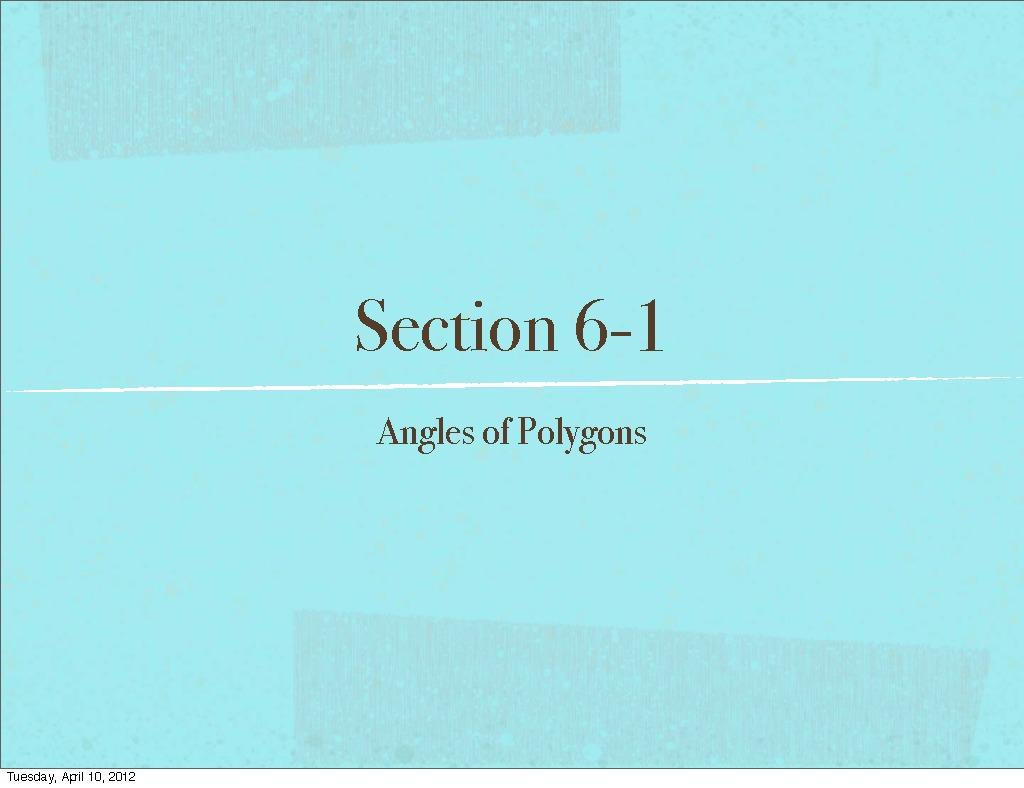title: (327, 239, 755, 493)
